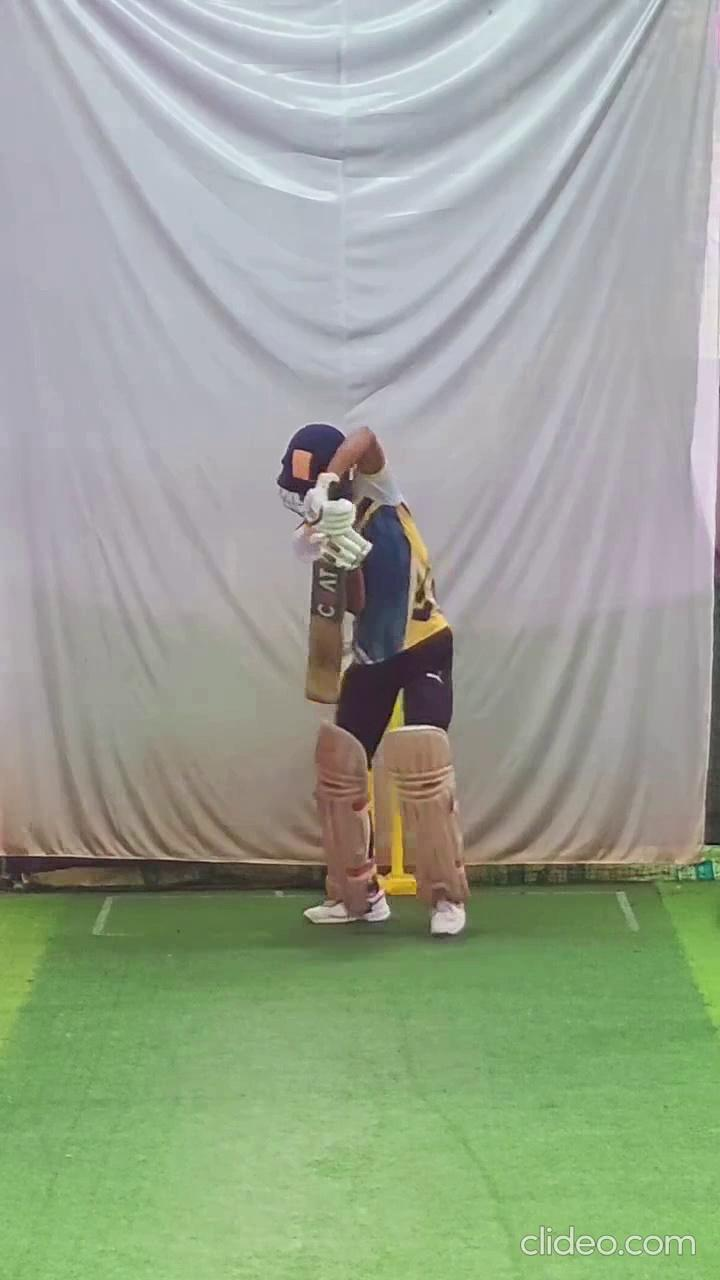bat: (303, 558, 348, 708)
